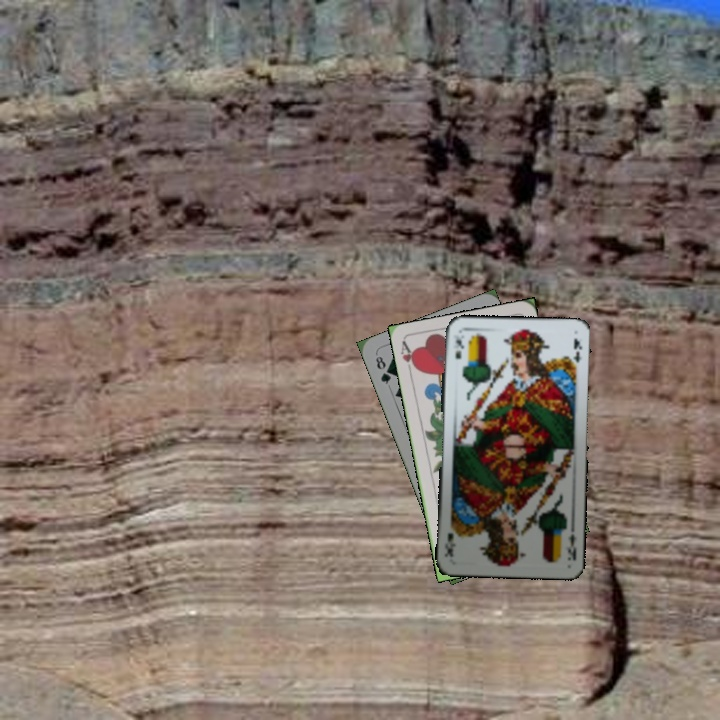EK: (562, 530, 579, 563), (449, 334, 465, 362)
G8: (372, 352, 394, 387)
HA: (396, 338, 420, 379)
